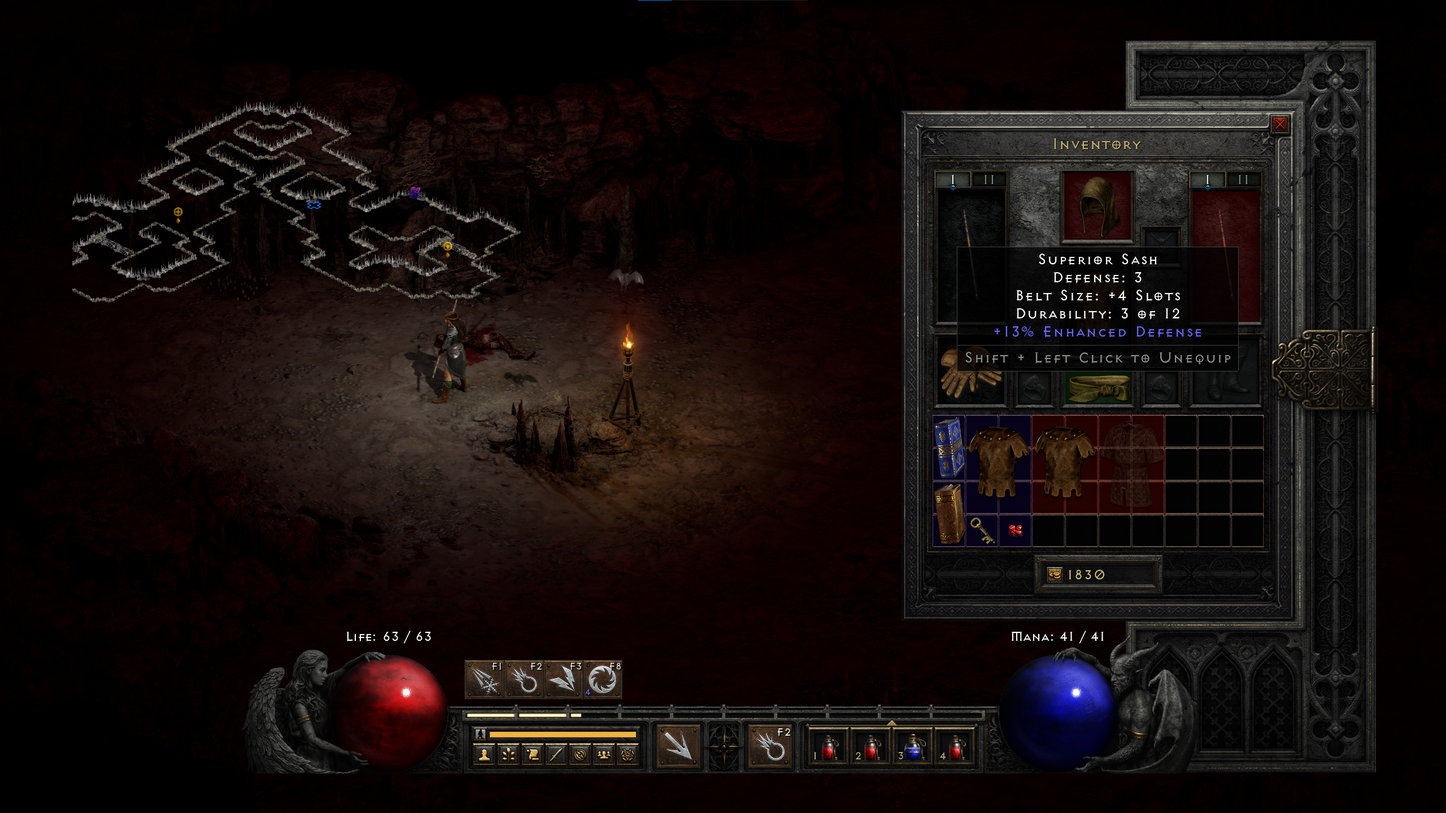tooltip: (957, 247, 1238, 371)
